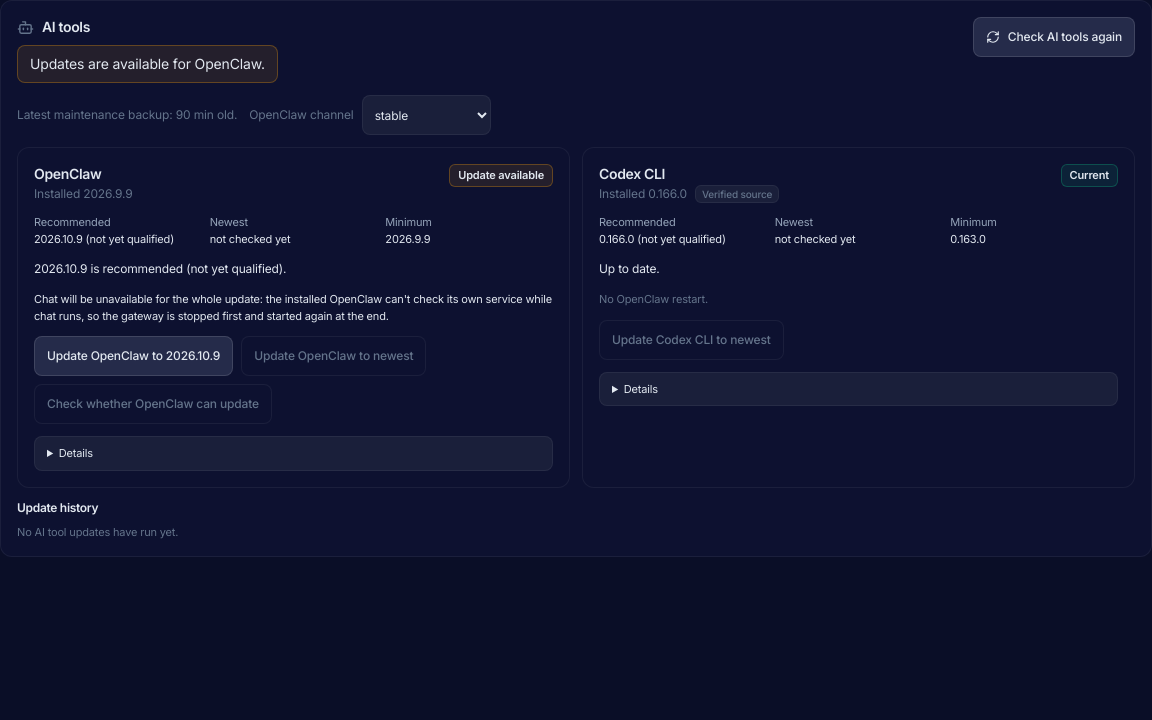
OpenClaw update consent review › in mode B says chat is unavailable for the whole update and never promises a short pause
Click the button "Update OpenClaw to 2026.10.9" at (134, 356), box [34,336,233,376]
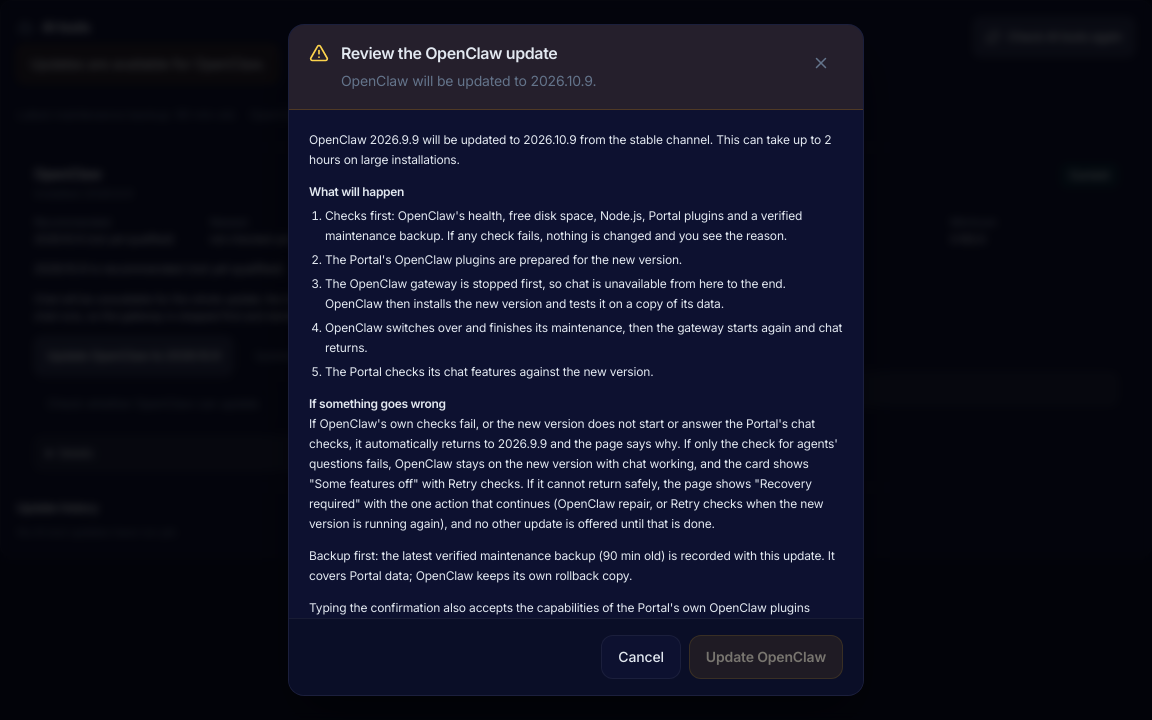
Expected: the 3rd list item shows "The OpenClaw gateway is stopped first, so chat is unavailable from here to the end. OpenClaw then installs the new version and tests it on a copy of its data.", [325,276,786,311]
Expected: the 4th list item shows "OpenClaw switches over and finishes its maintenance, then the gateway starts again and chat returns.", [325,320,842,355]
